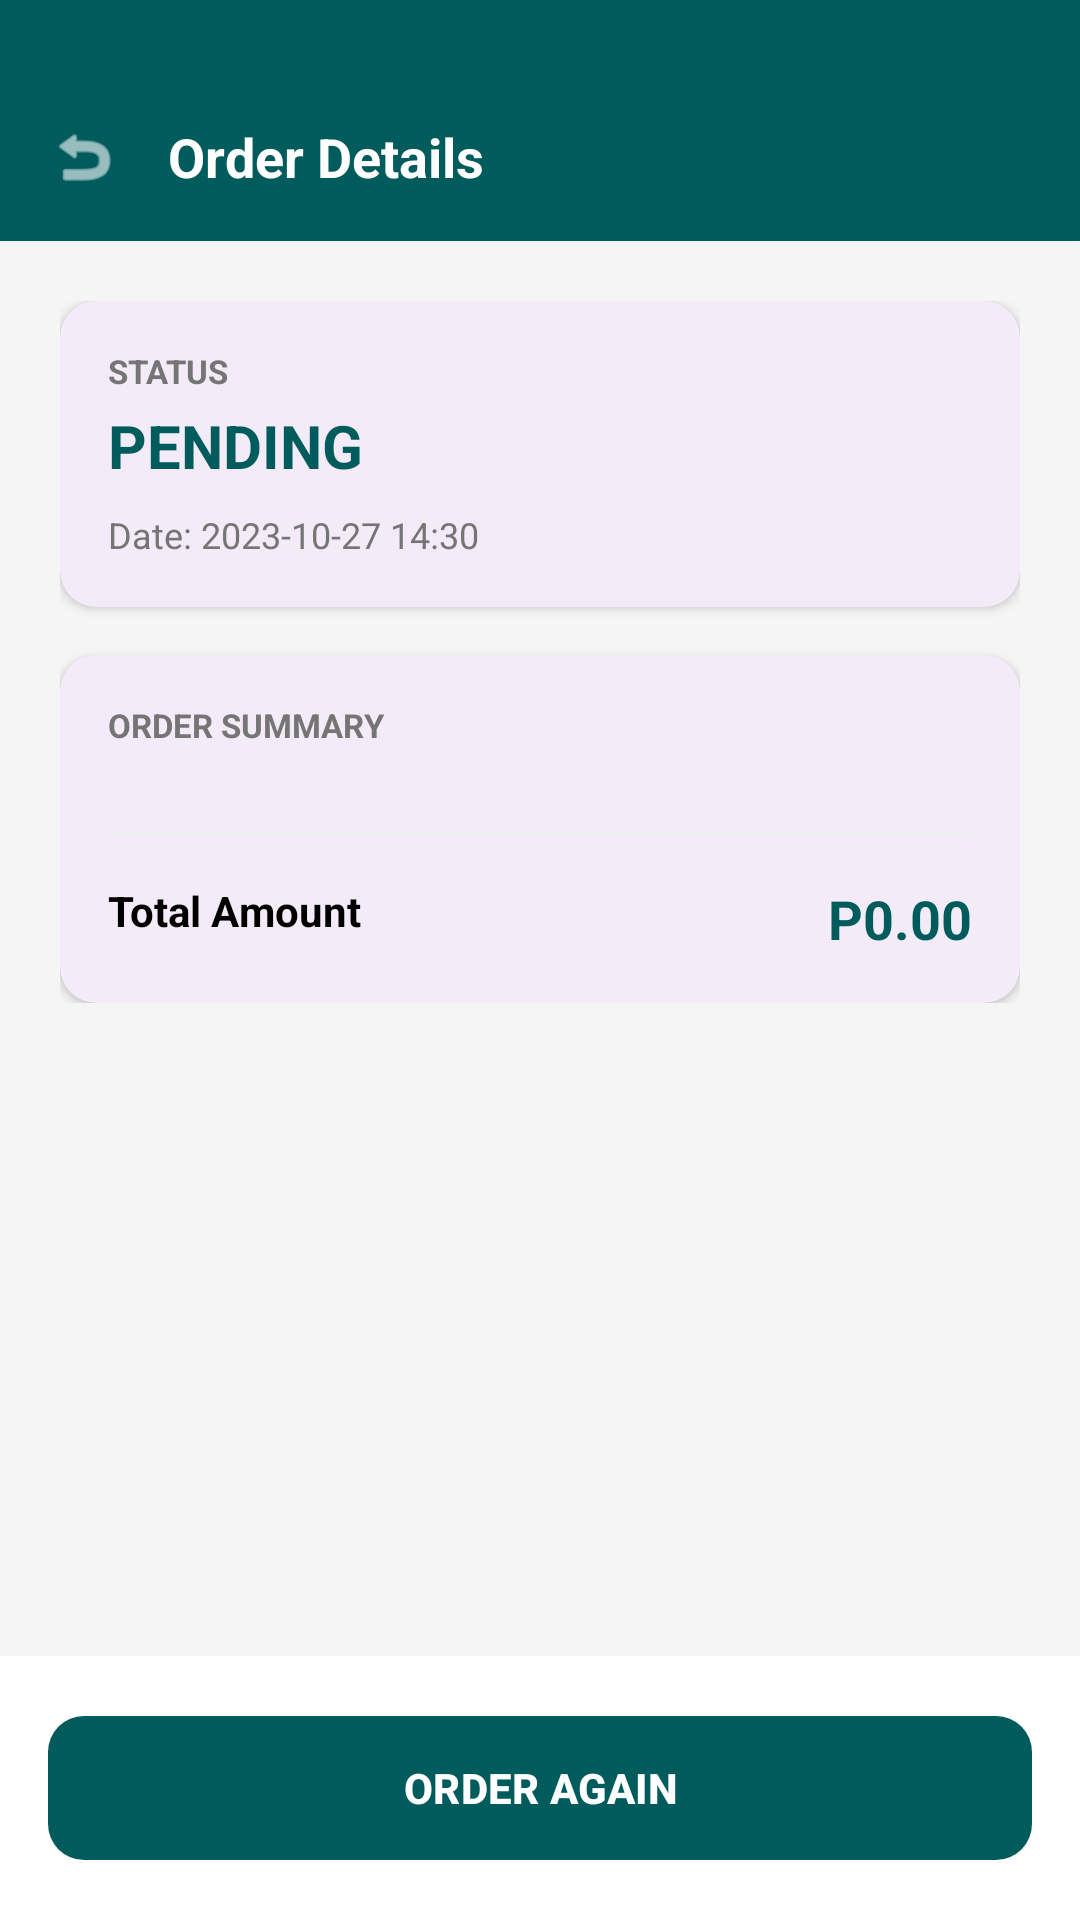

Screen size 1080px×1920px. Icon name, then its box in pixels as (x1, y1, x2, y2):
revert: (59, 134, 111, 181)
